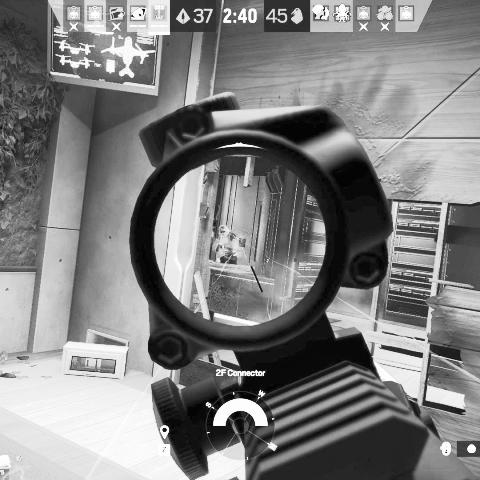Character: (215, 224, 239, 268)
Friend_label: (7, 454, 32, 469)
Head: (218, 225, 230, 236)
